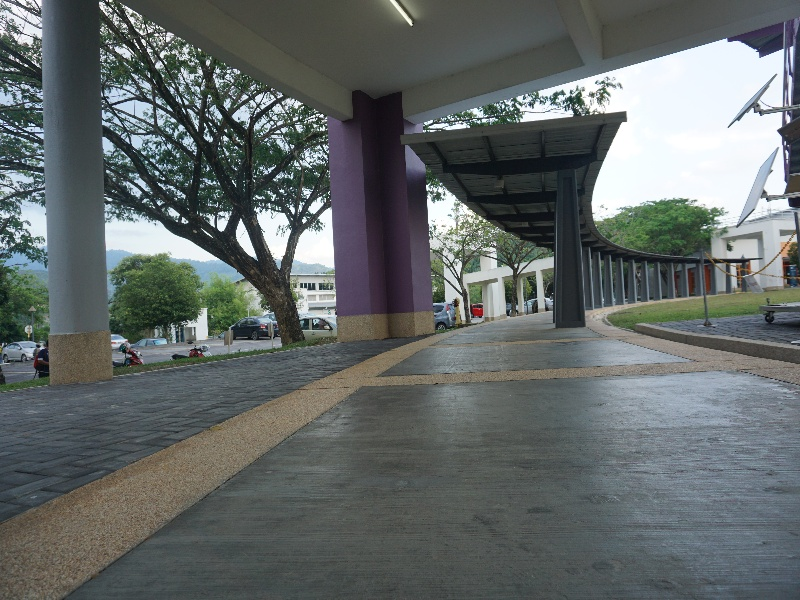Block D Pillar 6: (8, 4, 800, 496)
pillar: (28, 4, 118, 389), (315, 82, 445, 344), (548, 164, 590, 340)
